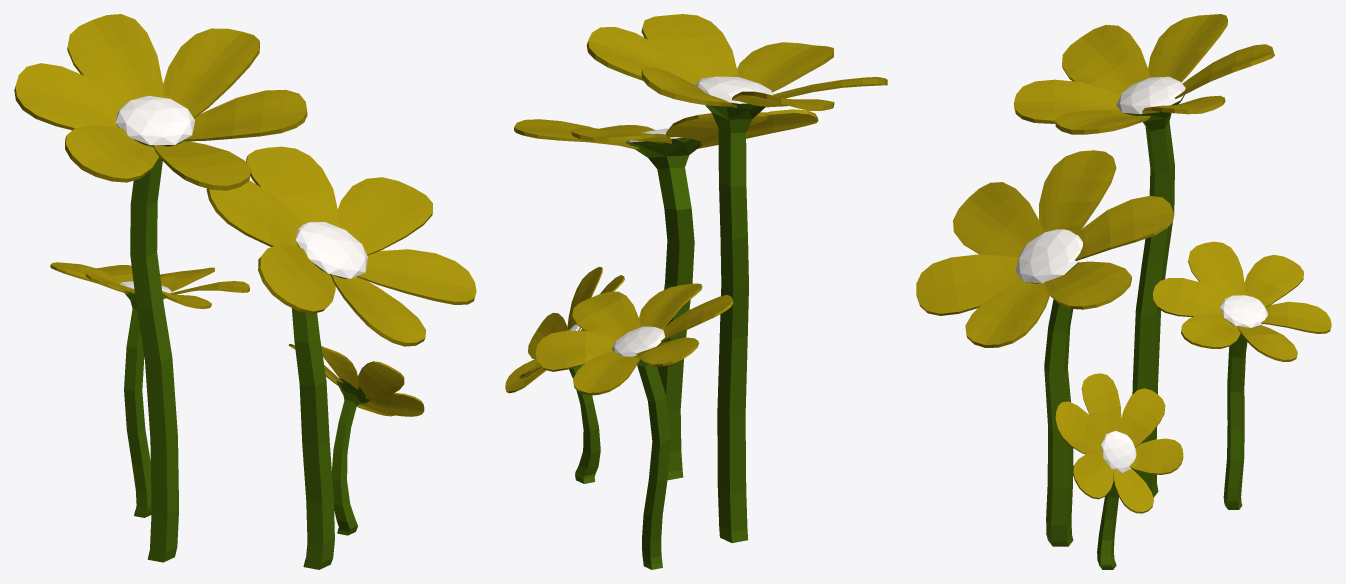
The model's file is flowers_yellow.fbx.
3 views of the same model, side by side, from view 1: azimuth 30°, elevation 25°; view 2: azimuth 150°, elevation 25°; view 3: azimuth 270°, elevation 25° (orthographic). The views are drawn at different scales.
Parts seen in each view (by area): view 1: Flowers Yellow; view 2: Flowers Yellow; view 3: Flowers Yellow.
Part boxes in pixels (x1,y1,x2,y2): Flowers Yellow: (14, 14, 476, 569); Flowers Yellow: (505, 14, 887, 569); Flowers Yellow: (916, 14, 1331, 569).
Bounding box in the file's own units: 42.61 × 55.98 × 47.15.
